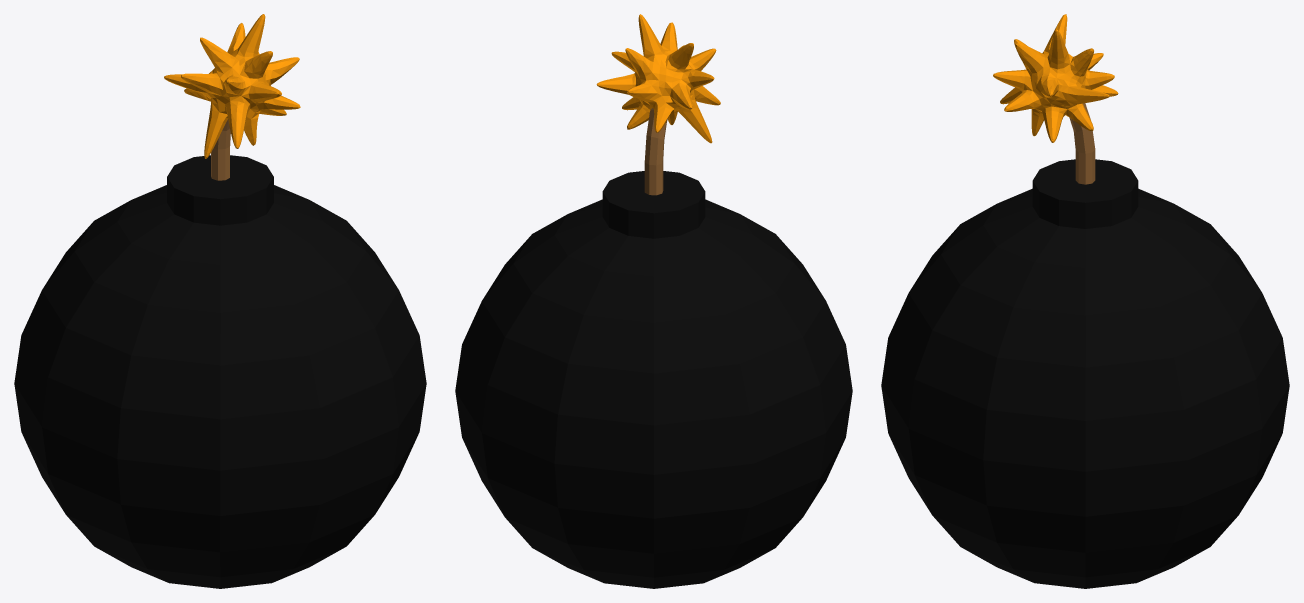
Rendered from bomb.fbx.
3 renders of one model, left to right at view 1: azimuth 30°, elevation 25°; view 2: azimuth 150°, elevation 25°; view 3: azimuth 270°, elevation 25°, orthographic. The views are drawn at different scales.
Parts seen in each view (by area): view 1: default; view 2: default; view 3: default.
Part boxes in pixels (x1,y1,x2,y2): default: (14,14,426,588); default: (455,14,852,588); default: (881,14,1289,588).
Bounding box in the file's own units: 2 × 3 × 2.
